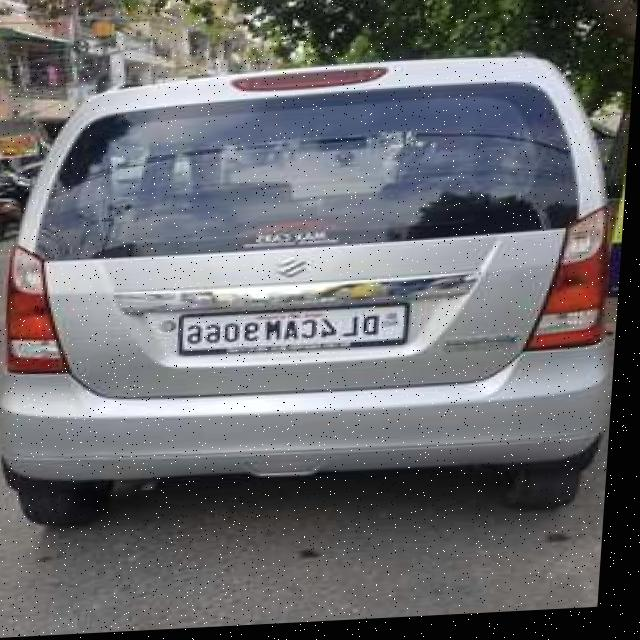plate: (182, 304, 417, 359)
